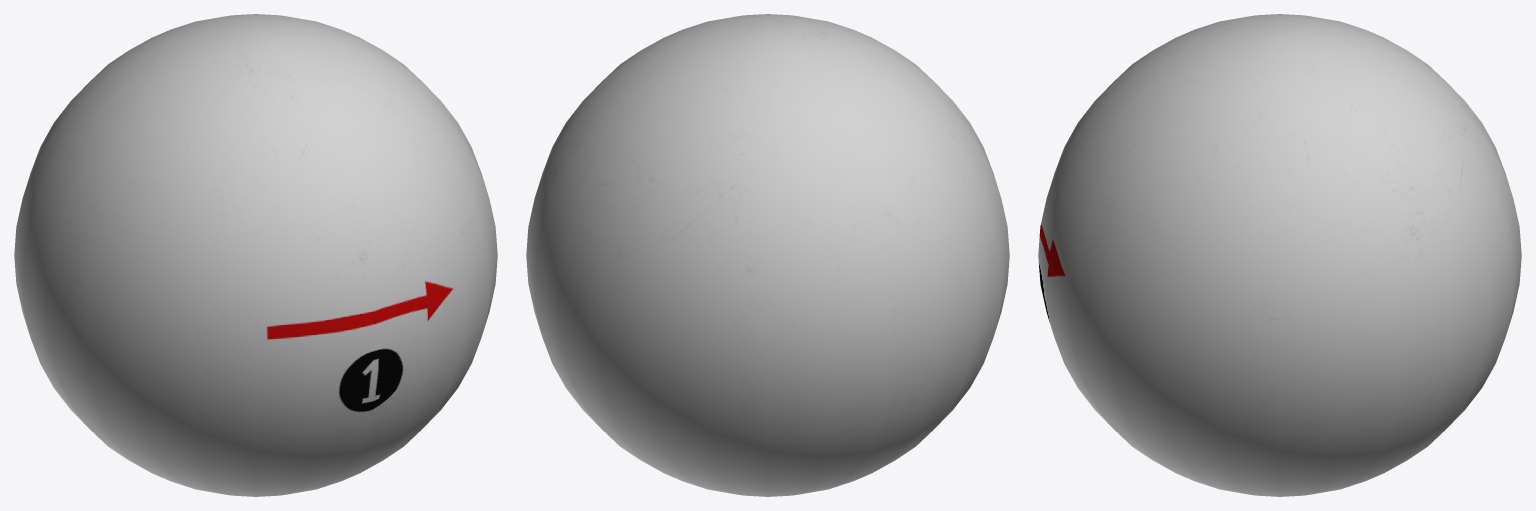
File: sentinel.glb
3 renders of one model, left to right at view 1: azimuth 30°, elevation 25°; view 2: azimuth 150°, elevation 25°; view 3: azimuth 270°, elevation 25°, orthographic.
Parts seen in each view (by area): view 1: ball_golf_base_stylized_lod0; view 2: ball_golf_base_stylized_lod0; view 3: ball_golf_base_stylized_lod0.
Part boxes in pixels (x1,y1,x2,y2): ball_golf_base_stylized_lod0: (14,14,497,496); ball_golf_base_stylized_lod0: (526,14,1009,496); ball_golf_base_stylized_lod0: (1038,14,1521,496).
Size of the model in its own units: 0.0427 by 0.0427 by 0.0427.
Materials: 1 (1 with a texture image).
